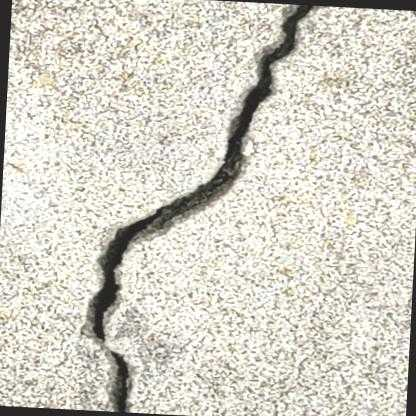crack: (90, 5, 312, 412)
